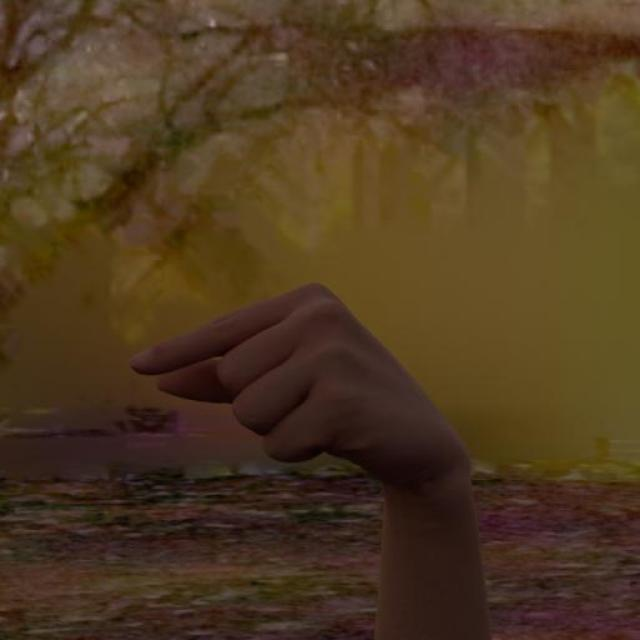G: (126, 276, 473, 486)
